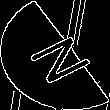N_NE: (16, 25, 94, 85)
